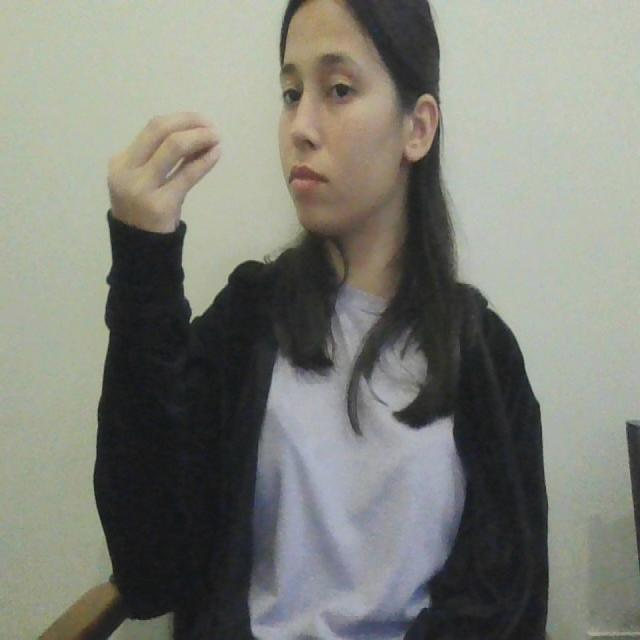Yemek: (110, 104, 331, 202)
